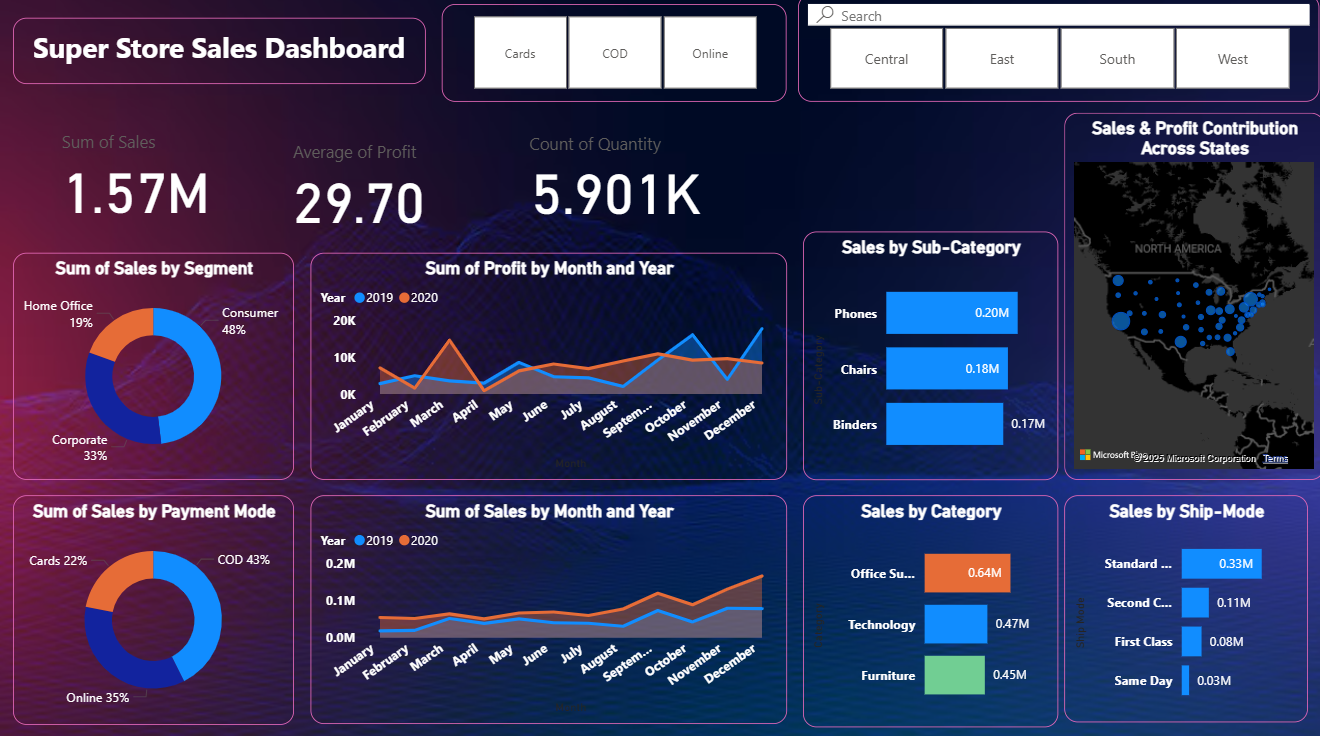

This screenshot's page, from the dashboard's own definition file:
{"tool":"powerbi","page":{"name":"Page 1","canvas":[1280,720],"ordinal":0},"visuals":[{"type":"clusteredBarChart","title":"Sales by Category","fields":{"Category":["Sales.Category"],"Y":["Sum(Sales.Sales)"]},"box":[776.9,483.8,246.1,224.4],"z":0},{"type":"clusteredBarChart","title":"Sales by Sub-Category","fields":{"Category":["Sales.Sub-Category"],"Y":["Sum(Sales.Sales)"]},"box":[776.9,229.2,246.1,240.1],"z":1000},{"type":"clusteredBarChart","title":"Sales by Ship-Mode","fields":{"Y":["Sum(Sales.Sales)"],"Category":["Sales.Ship Mode"]},"box":[1029.1,483.8,235.3,219.6],"z":2000},{"type":"areaChart","fields":{"Y":["Sum(Sales.Sales)"],"Series":["Sales.Order Date.Variation.Date Hierarchy.Year"],"Category":["Sales.Order Date.Variation.Date Hierarchy.Month","Sales.Order Date.Variation.Date Hierarchy.Day"]},"box":[301.6,483.8,459.7,220.8],"z":3000},{"type":"areaChart","fields":{"Series":["Sales.Order Date.Variation.Date Hierarchy.Year"],"Category":["Sales.Order Date.Variation.Date Hierarchy.Month","Sales.Order Date.Variation.Date Hierarchy.Day"],"Y":["Sum(Sales.Profit)"]},"box":[301.6,249.7,459.7,219.6],"z":4000},{"type":"map","title":"Sales & Profit Contribution Across States","fields":{"Category":["Sales.State"],"Size":["Sum(Sales.Sales)"]},"box":[1029.1,114.6,250.9,354.7],"z":5000},{"type":"donutChart","fields":{"Category":["Sales.Segment"],"Y":["Sum(Sales.Sales)"]},"box":[14.5,249.7,271.4,219.6],"z":6000},{"type":"donutChart","fields":{"Y":["Sum(Sales.Sales)"],"Category":["Sales.Payment Mode"]},"box":[14.5,483.8,271.4,222],"z":7000},{"type":"slicer","fields":{"Values":["Sales.Region"]},"box":[772.1,0,503.1,103.8],"z":8000},{"type":"textbox","box":[14.5,22.9,398.1,63.9],"z":9000},{"type":"cardVisual","fields":{"Data":["Sum(Sales.Sales)"]},"box":[44.6,114.6,241.3,114.6],"z":10000},{"type":"cardVisual","fields":{"Data":["Avg(Sales.Profit)"]},"box":[267.8,124.3,241.3,114.6],"z":10001},{"type":"cardVisual","fields":{"Data":["CountNonNull(Sales.Quantity)"]},"box":[495.8,115.8,241.3,114.6],"z":10002},{"type":"slicer","fields":{"Values":["Sales.Payment Mode"]},"box":[428.3,9.7,333,94.1],"z":10003}]}

Visuals, with their boxes in screenshot pixels (x1, y1, x2, y2), scaled from the page's 1280x720 canvas onto the 1320x736 screenshot:
"Sales by Category" clusteredBarChart: (left=801, top=495, right=1055, bottom=724)
"Sales by Sub-Category" clusteredBarChart: (left=801, top=234, right=1055, bottom=480)
"Sales by Ship-Mode" clusteredBarChart: (left=1061, top=495, right=1304, bottom=719)
areaChart - Sum(Sales.Sales) x Sales.Order Date.Variation.Date Hierarchy.Year: (left=311, top=495, right=785, bottom=720)
areaChart - Sales.Order Date.Variation.Date Hierarchy.Year x Sales.Order Date.Variation.Date Hierarchy.Month: (left=311, top=255, right=785, bottom=480)
"Sales & Profit Contribution Across States" map: (left=1061, top=117, right=1319, bottom=480)
donutChart - Sales.Segment x Sum(Sales.Sales): (left=15, top=255, right=295, bottom=480)
donutChart - Sum(Sales.Sales) x Sales.Payment Mode: (left=15, top=495, right=295, bottom=721)
slicer - Sales.Region: (left=796, top=0, right=1315, bottom=106)
textbox: (left=15, top=23, right=425, bottom=89)
cardVisual - Sum(Sales.Sales): (left=46, top=117, right=295, bottom=234)
cardVisual - Avg(Sales.Profit): (left=276, top=127, right=525, bottom=244)
cardVisual - CountNonNull(Sales.Quantity): (left=511, top=118, right=760, bottom=236)
slicer - Sales.Payment Mode: (left=442, top=10, right=785, bottom=106)
